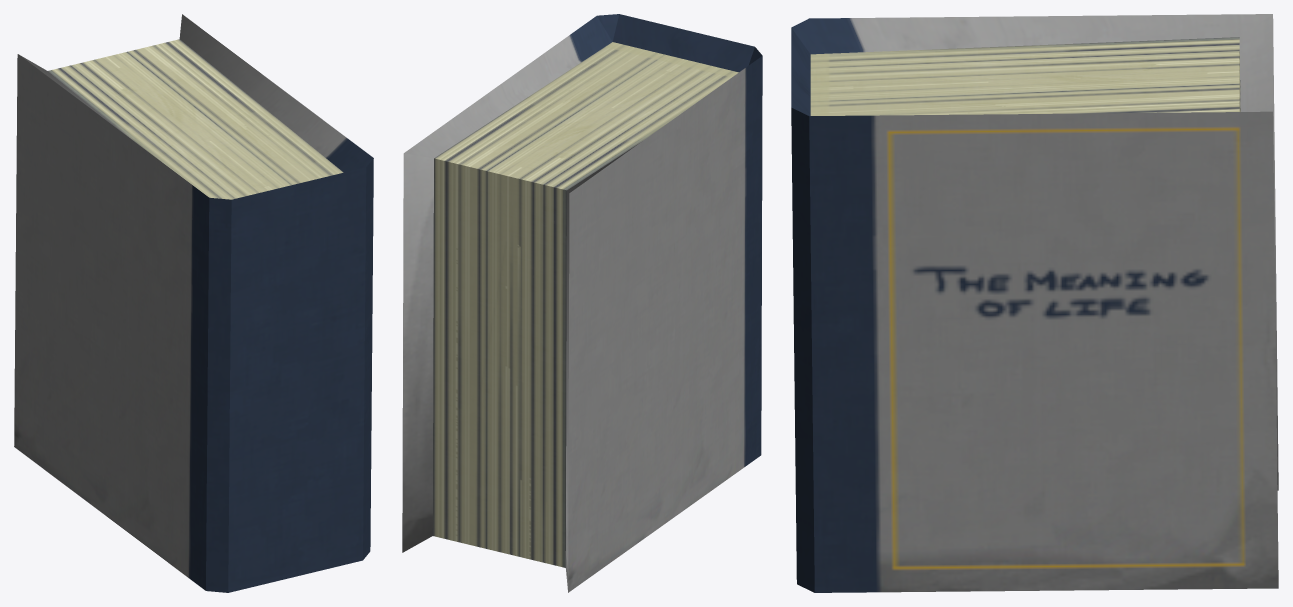
The model's file is e_asset_book_meaning.fbx.
The picture shows the model from 3 angles, left to right: view 1: azimuth 30°, elevation 25°; view 2: azimuth 150°, elevation 25°; view 3: azimuth 270°, elevation 25°; orthographic projection. The views are drawn at different scales.
Visible parts, largest first — view 1: pCube79; view 2: pCube79; view 3: pCube79.
Boxes of the visible parts, x1,y1,x2,y2 form: pCube79: (14, 14, 373, 592); pCube79: (402, 14, 762, 592); pCube79: (791, 14, 1278, 592).
Size of the model in its own units: 0.1275 by 0.2936 by 0.2687.
